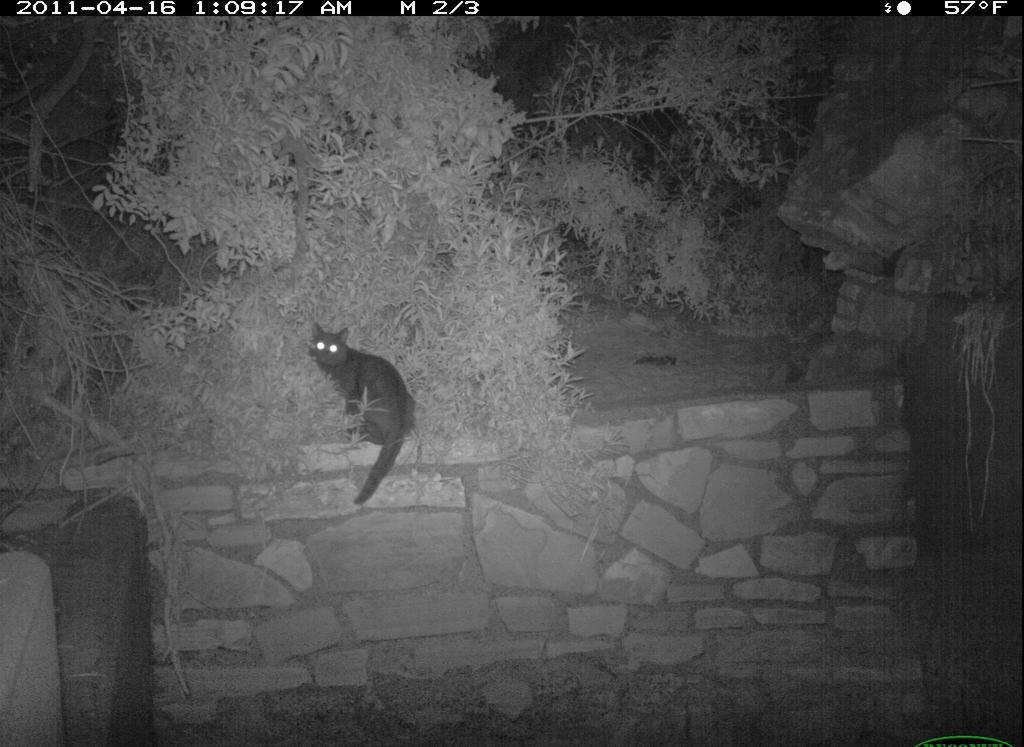cat: (306, 313, 425, 515)
